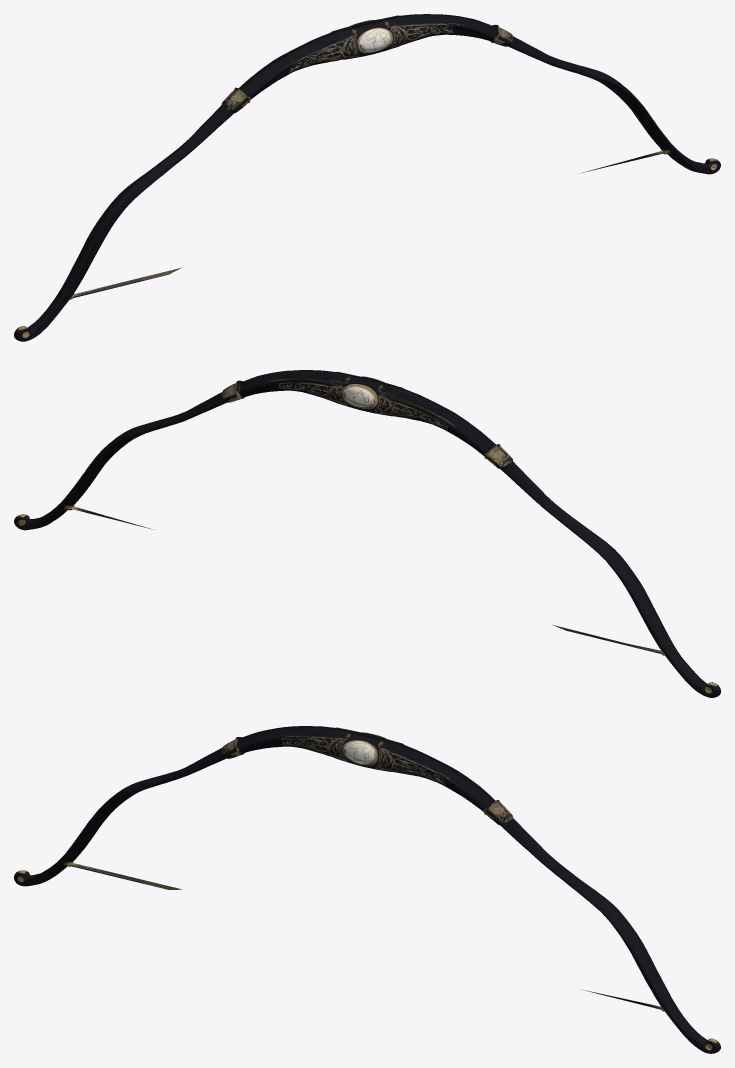
File: bow.glb
The picture shows the model from 3 angles, top to bottom: view 1: azimuth 30°, elevation 25°; view 2: azimuth 150°, elevation 25°; view 3: azimuth 330°, elevation 25°; orthographic projection.
Parts seen in each view (by area): view 1: mesh_node; view 2: mesh_node; view 3: mesh_node.
Part boxes in pixels (x1,y1,x2,y2): mesh_node: (14,14,720,341); mesh_node: (14,370,720,697); mesh_node: (14,726,720,1053).
Bounding box in the file's own units: 1.9 × 0.5988 × 0.0945.
Materials: 1 (1 with a texture image).
